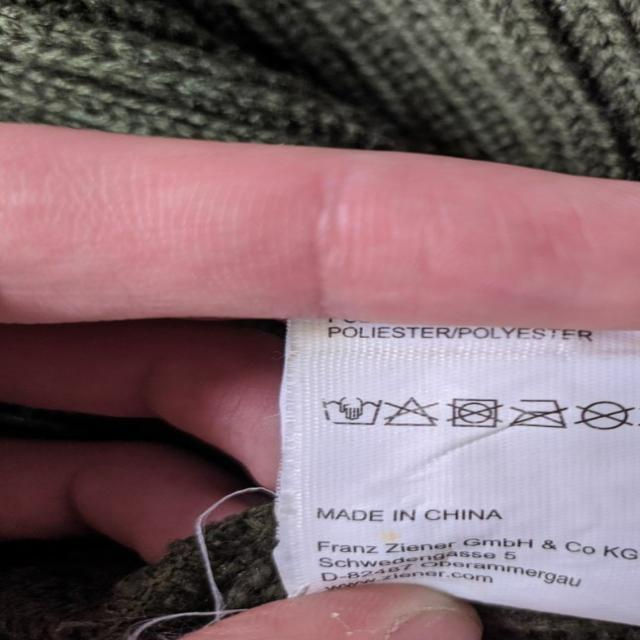DN_bleach: (385, 393, 439, 429)
DN_dry_clean: (577, 396, 635, 431)
DN_iron: (509, 394, 569, 431)
DN_tumble_dry: (447, 394, 502, 430)
hand_wash: (323, 391, 382, 431)
